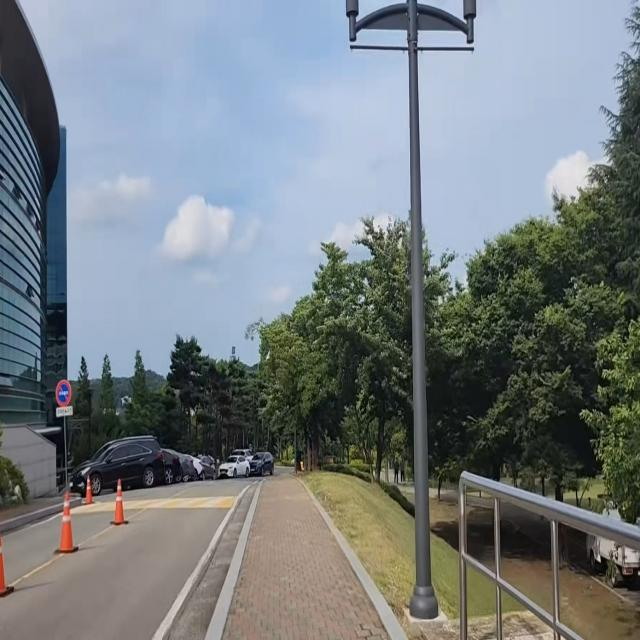obstacle: (341, 0, 478, 622), (72, 431, 170, 498), (158, 445, 276, 484), (52, 484, 80, 556), (0, 510, 17, 595), (109, 470, 132, 528)
road: (0, 480, 258, 640)
sidewalk: (212, 478, 389, 640), (0, 499, 71, 525)
